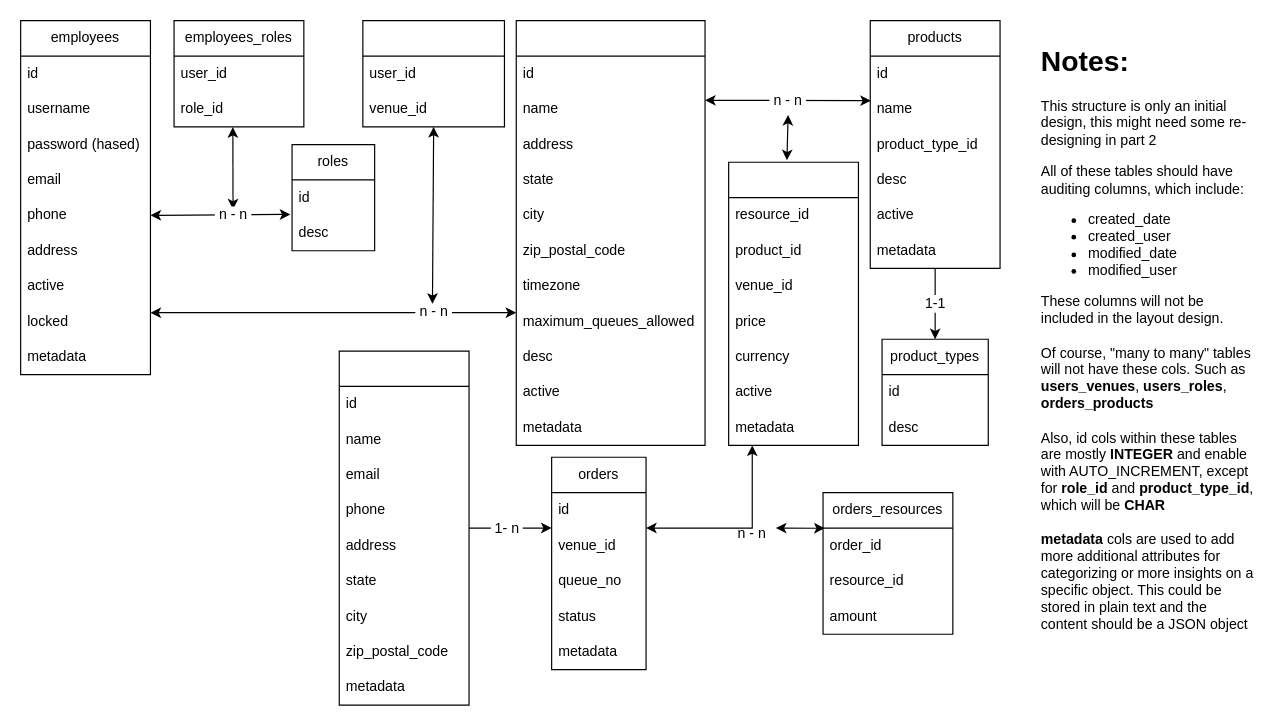
The diagram is 1280 pixels wide and 726 high, and some of its shapes have lost their labels. The box of each missing label's shape, as (x1, y1, x2, y2) in pixels:
customers: (338, 350, 469, 705)
employees_venues: (362, 19, 504, 127)
resources: (727, 161, 858, 445)
venues: (515, 19, 705, 445)
